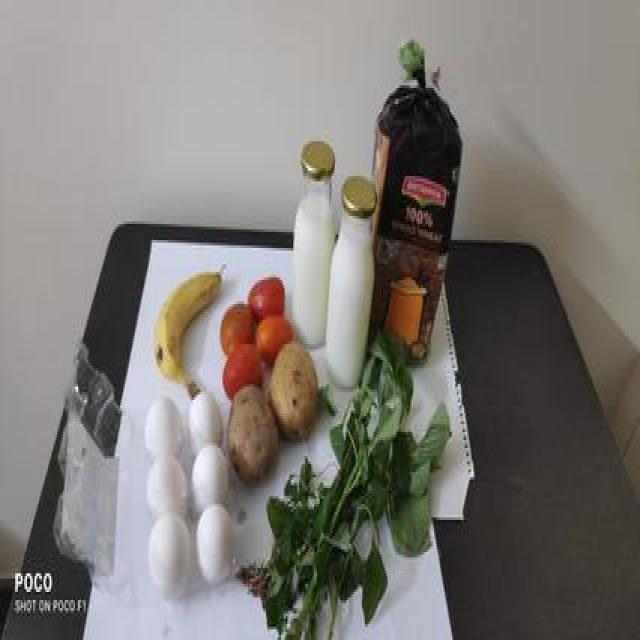Fresh_Spinach: (254, 373, 443, 640)
Fresh_tomato: (222, 284, 292, 377)
